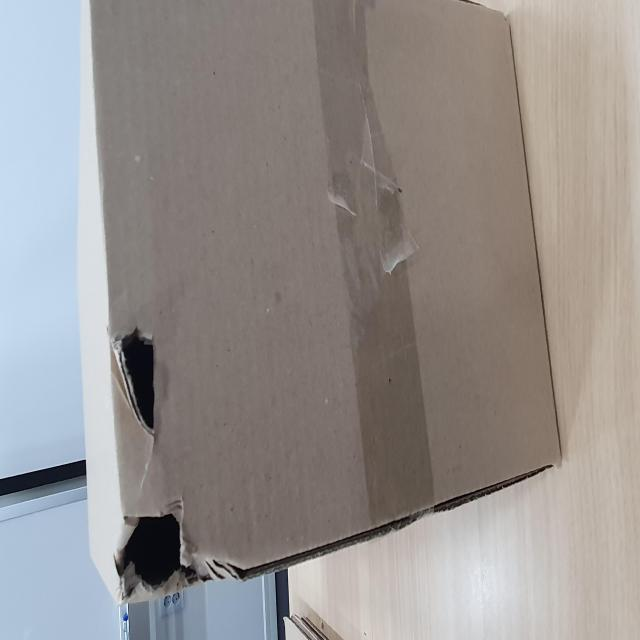damaged: (105, 185, 189, 303), (23, 192, 79, 348)
